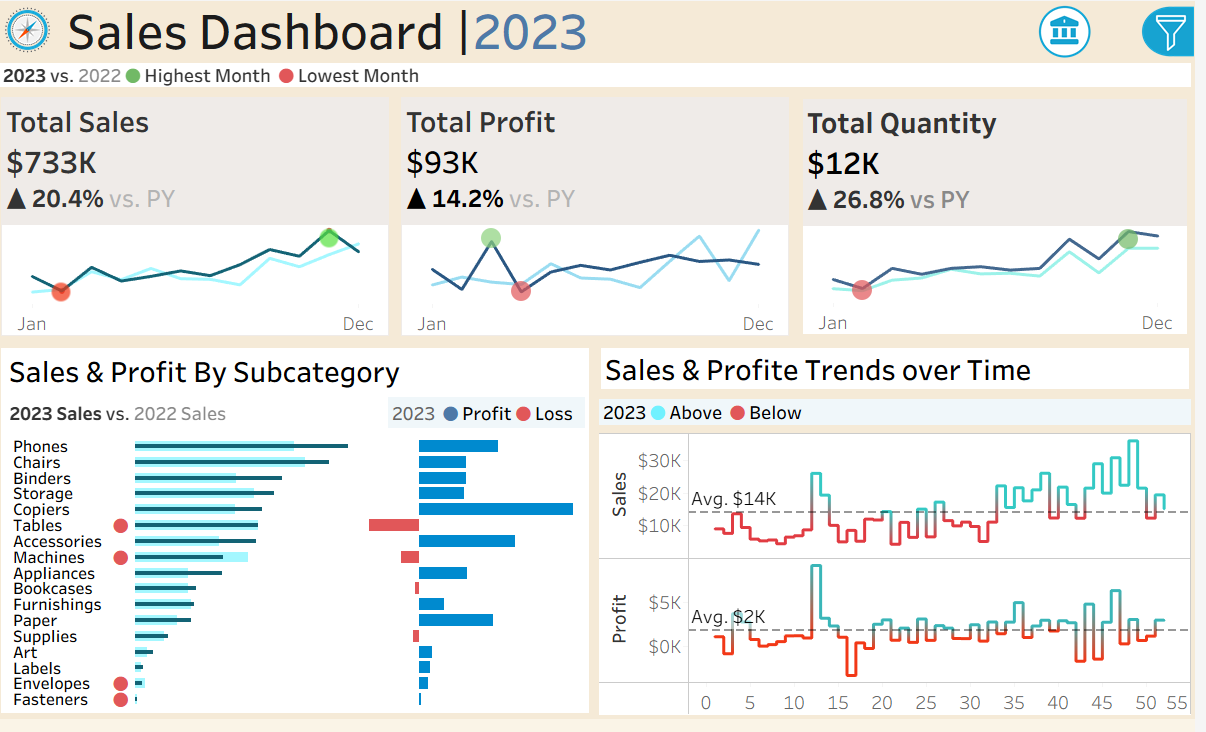

The dashboard page shown, as its layout file describes it:
{"tool":"tableau","page":{"name":"Sales Dashboard","canvas":[1200,750],"ordinal":0},"visuals":[{"type":"image","param":"Image/Icon - Logo.png","box":[0,0,64,58]},{"type":"text","box":[64,0,775,58]},{"type":"dashboard-object","box":[1018,0,103,61]},{"type":"blank","box":[1011,2,185,61]},{"type":"worksheet","title":"Legends of KPI","mark":"Automatic","box":[0,58,1200,32]},{"type":"text","box":[1011,63,185,52]},{"type":"worksheet","title":"KPI Sales","mark":"Automatic","rows":["Calculation_903534707732811780"],"cols":["Order Date"],"box":[0,90,400,251]},{"type":"worksheet","title":"KPI Profits","mark":"Automatic","rows":["Calculation_1568378604509306890"],"cols":["Order Date"],"box":[400,90,400,251]},{"type":"worksheet","title":"KPI Quantity","mark":"Automatic","rows":["Calculation_892275710668636160"],"cols":["Order Date"],"box":[800,90,400,251]},{"type":"parameter","param":"[Parameters].[Parameter 1]","box":[1011,115,185,60]},{"type":"blank","box":[1011,175,185,32]},{"type":"text","box":[1011,207,185,33]},{"type":"filter","title":"KPI Sales","param":"[federated.0zdg8wj1k7l3tf10e7ehs0nv2edh].[none:Category:nk]","box":[1011,240,185,70]},{"type":"filter","title":"KPI Sales","param":"[federated.0zdg8wj1k7l3tf10e7ehs0nv2edh].[none:Sub-Category:nk]","box":[1011,310,185,70]},{"type":"text","box":[600,341,600,53]},{"type":"text","box":[6,347,588,45.2]},{"type":"text","box":[1011,380,185,33]},{"type":"worksheet","title":"Legends of Subcategory","mark":"Automatic","box":[6,392.2,383,39]},{"type":"text","box":[389,392.2,205,39]},{"type":"text","box":[600,394,600,34]},{"type":"filter","title":"KPI Sales","param":"[federated.0zdg8wj1k7l3tf10e7ehs0nv2edh].[none:Region:nk]","box":[1011,413,185,70]},{"type":"worksheet","title":"Weekly Trends","mark":"Automatic","rows":["Calculation_903534707714076672","Calculation_1568378604380065792"],"cols":["Order Date"],"box":[600,428,600,290]},{"type":"worksheet","title":"Subcategory Comparison","mark":"Bar","rows":["Sub-Category","Calculation_1568378604385222658"],"cols":["CY Sales (copy)_903534707715272705","Calculation_903534707714076672","Calculation_1568378604380065792"],"box":[6,431.2,588,280.8]},{"type":"filter","title":"KPI Sales","param":"[federated.0zdg8wj1k7l3tf10e7ehs0nv2edh].[none:State:nk]","box":[1011,483,185,70]},{"type":"filter","title":"KPI Sales","param":"[federated.0zdg8wj1k7l3tf10e7ehs0nv2edh].[none:City:nk]","box":[1011,553,185,70]}]}

Visuals, with their boxes in screenshot pixels (x1, y1, x2, y2), scaled from the page's 1200x750 canvas onto the 1206x732 screenshot:
image: locate(0, 0, 64, 57)
text: locate(64, 0, 843, 57)
dashboard-object: locate(1023, 0, 1127, 60)
blank: locate(1016, 2, 1202, 61)
"Legends of KPI" worksheet: locate(0, 57, 1205, 88)
text: locate(1016, 61, 1202, 112)
"KPI Sales" worksheet: locate(0, 88, 402, 333)
"KPI Profits" worksheet: locate(402, 88, 804, 333)
"KPI Quantity" worksheet: locate(804, 88, 1205, 333)
parameter: locate(1016, 112, 1202, 171)
blank: locate(1016, 171, 1202, 202)
text: locate(1016, 202, 1202, 234)
"KPI Sales" filter: locate(1016, 234, 1202, 303)
"KPI Sales" filter: locate(1016, 303, 1202, 371)
text: locate(603, 333, 1205, 385)
text: locate(6, 339, 597, 383)
text: locate(1016, 371, 1202, 403)
"Legends of Subcategory" worksheet: locate(6, 383, 391, 421)
text: locate(391, 383, 597, 421)
text: locate(603, 385, 1205, 418)
"KPI Sales" filter: locate(1016, 403, 1202, 471)
"Weekly Trends" worksheet: locate(603, 418, 1205, 701)
"Subcategory Comparison" worksheet (Bar marks): locate(6, 421, 597, 695)
"KPI Sales" filter: locate(1016, 471, 1202, 540)
"KPI Sales" filter: locate(1016, 540, 1202, 608)
